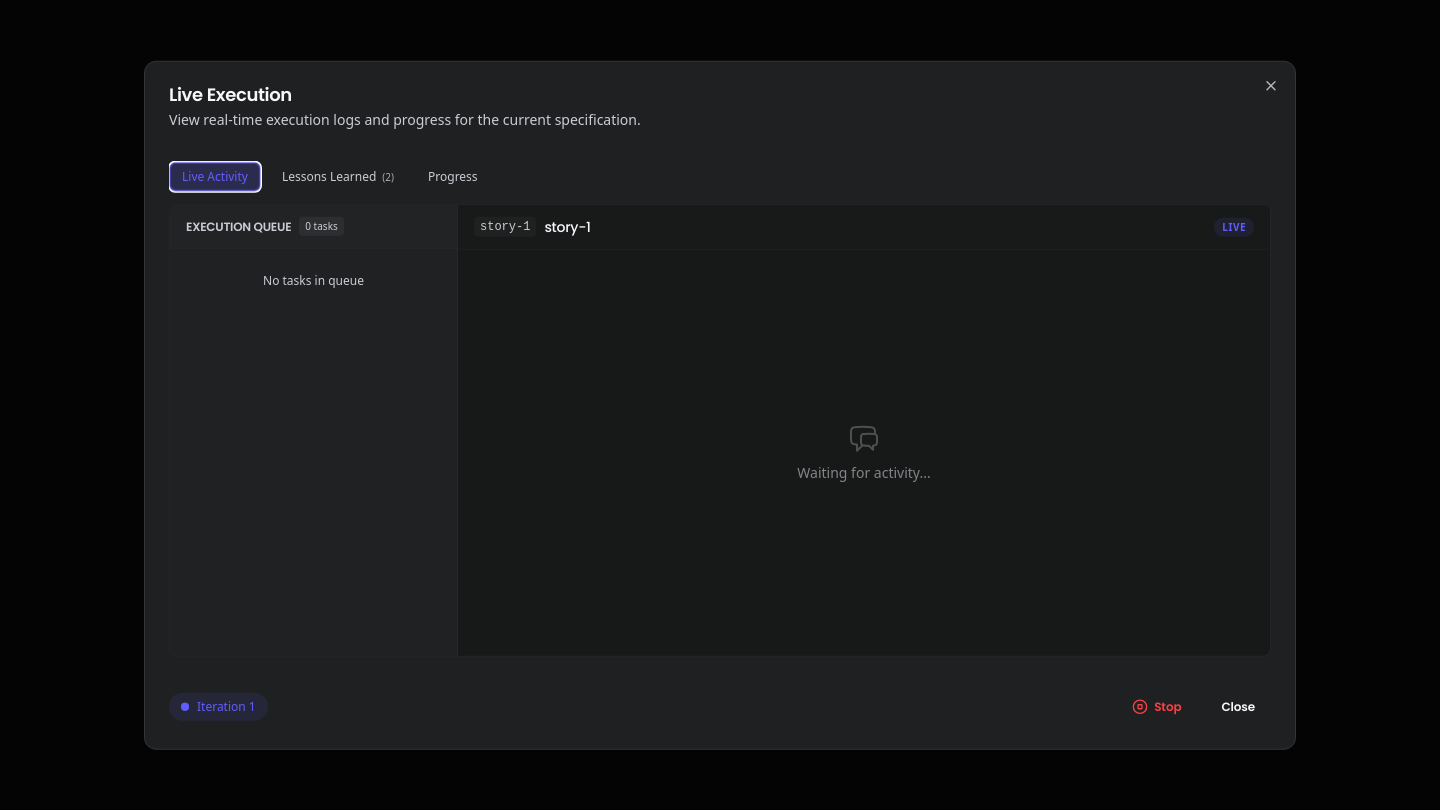
Test: ExecutionLiveModal › lessons learned tab › should switch to lessons tab and render lessons
The image size is (1440, 810).
Click the button "Lessons Learned(2)".
click(338, 177)  # box [269,162,407,192]
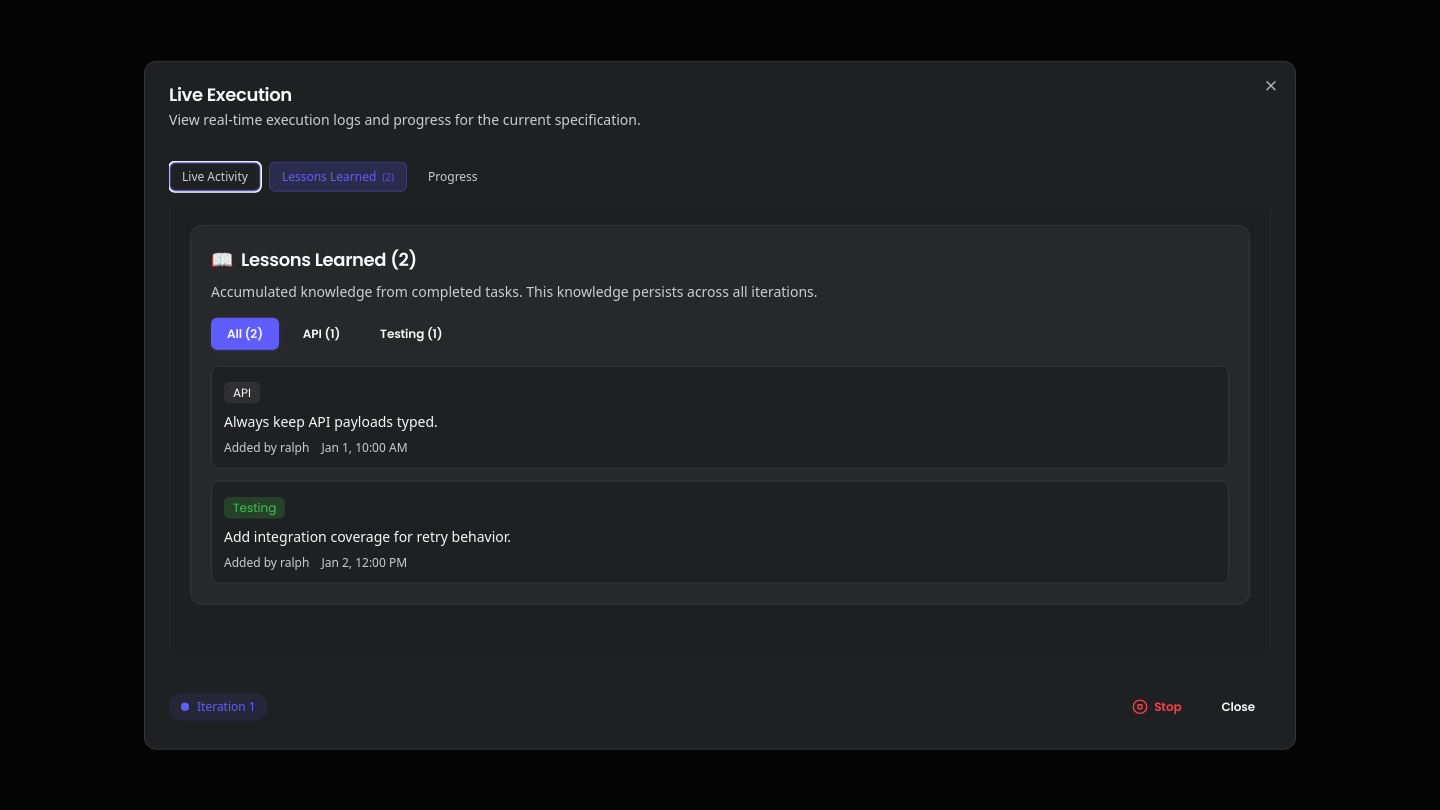
Expected: the heading "📖 Lessons Learned (2)" is shown, [211,246,417,274]
Expected: the text "Always keep API payloads typed." is shown, [224,412,438,431]
Expected: the text "Add integration coverage for retry behavior." is shown, [224,527,511,546]
